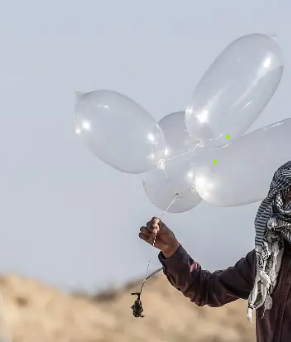Balloon: (184, 34, 284, 143), (191, 118, 291, 206), (73, 89, 168, 175)
